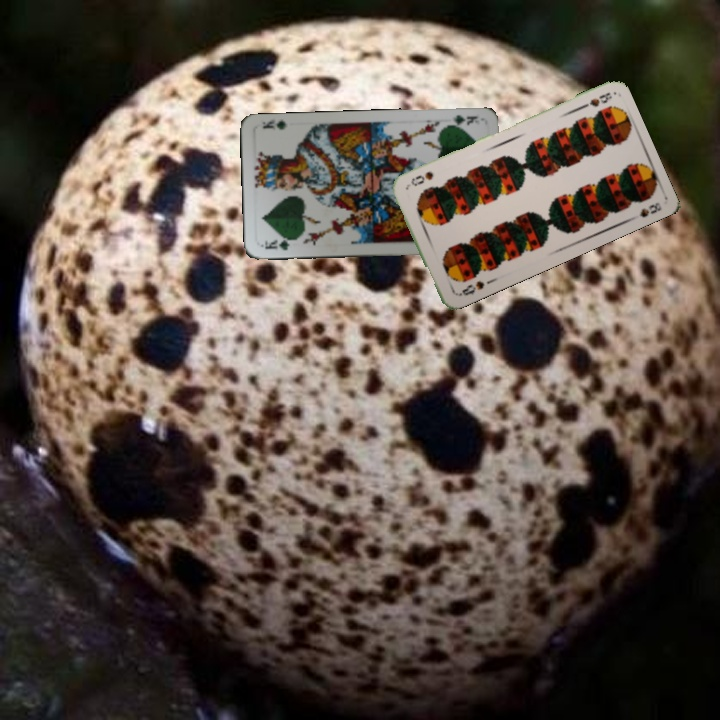GK: (443, 111, 482, 130), (259, 237, 292, 253)
S8: (575, 88, 615, 112), (450, 277, 487, 299)
